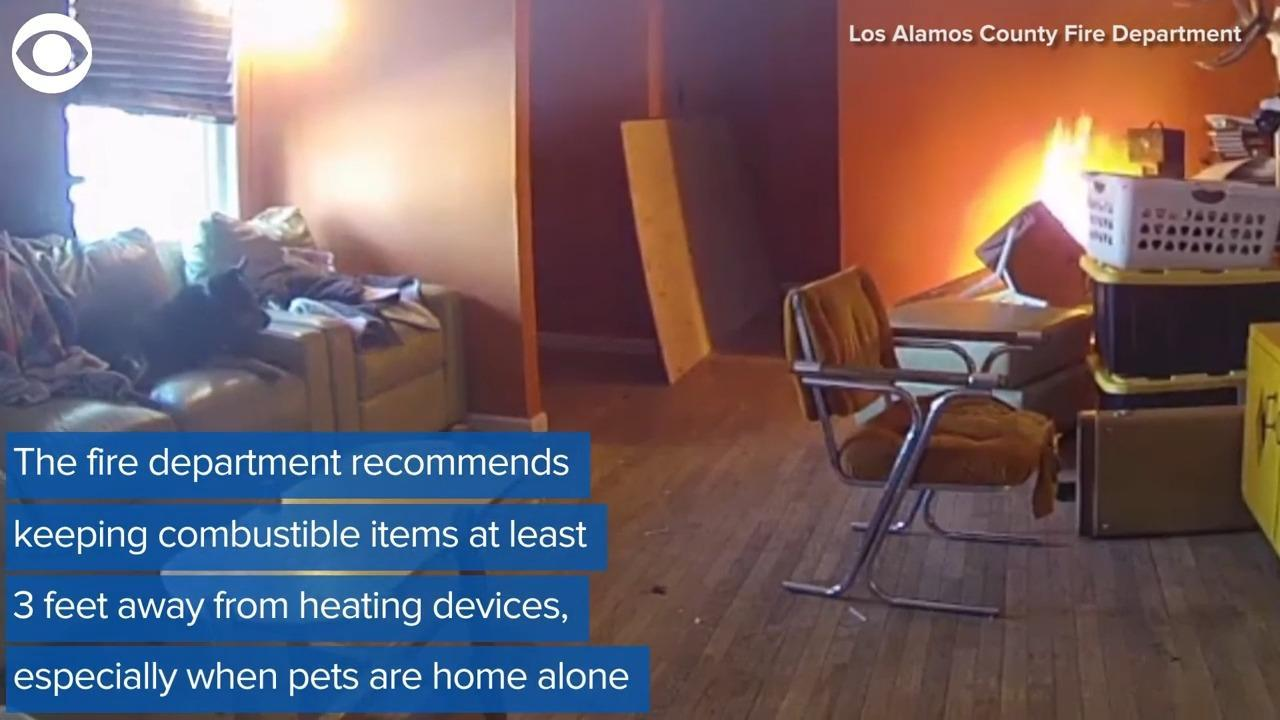fire: (1032, 110, 1134, 261)
